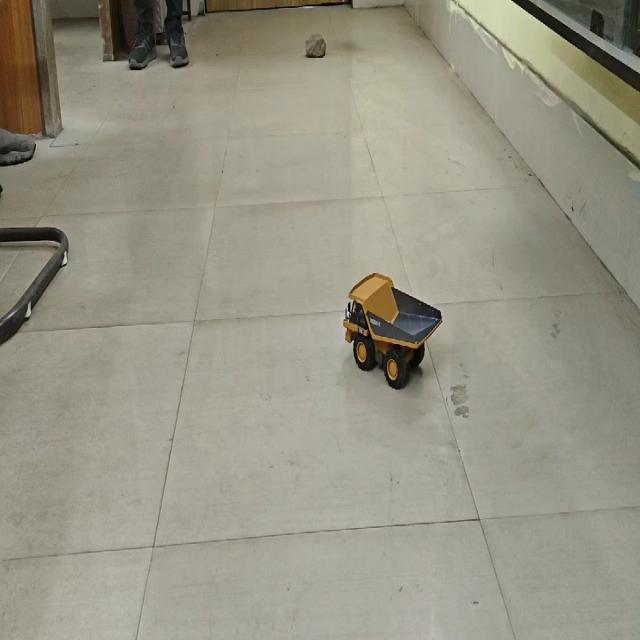dump_truck: (342, 269, 443, 387)
